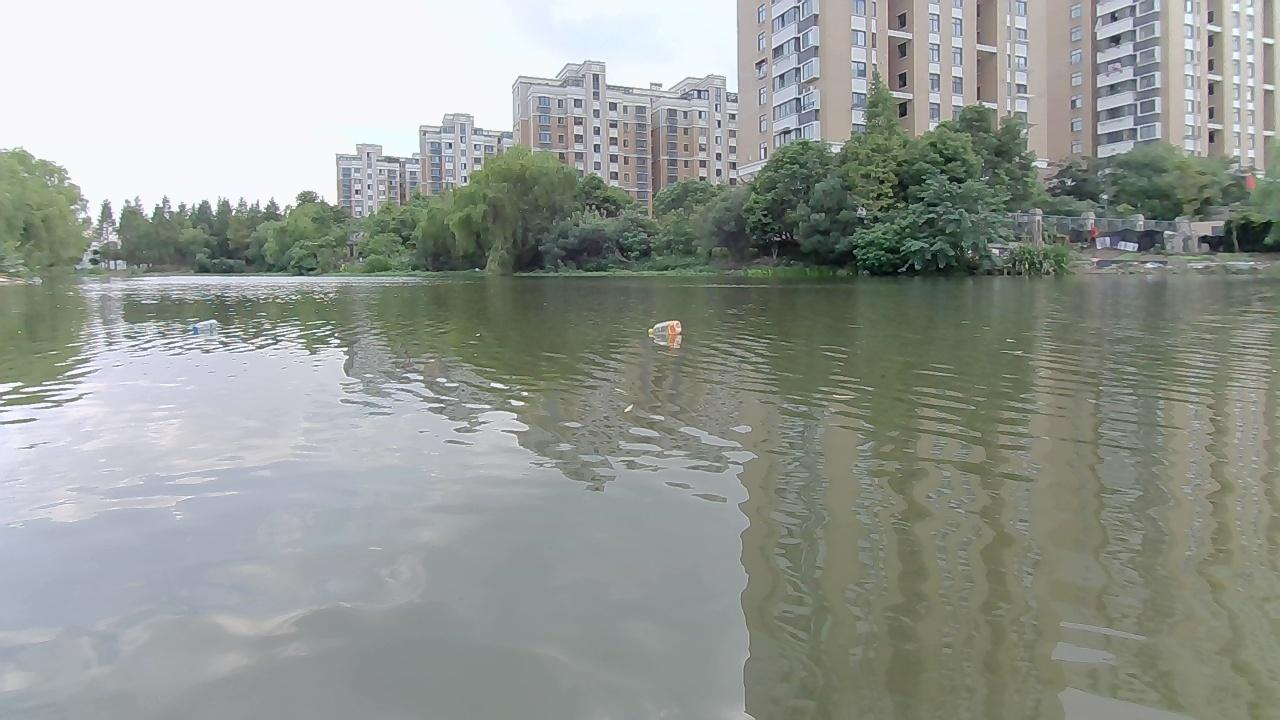bottle: (645, 320, 685, 338), (189, 316, 218, 331)
